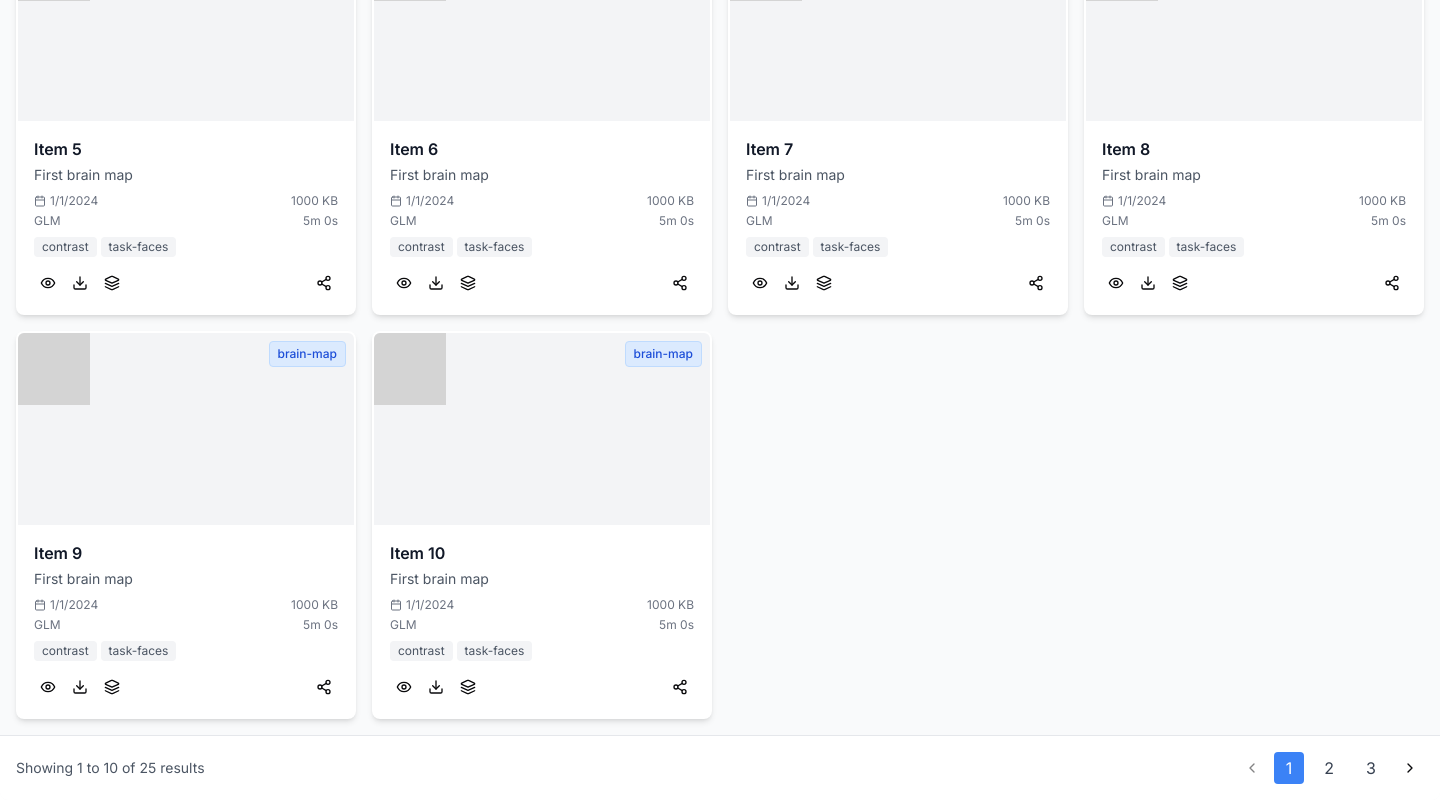
Test: ResultGallery › Pagination › navigates between pages
The width and height of the screenshot is (1440, 800).
(page scrolled)
Step 1. Click the button "2" → {"x": 1329, "y": 768}, box [1312,752,1346,784]
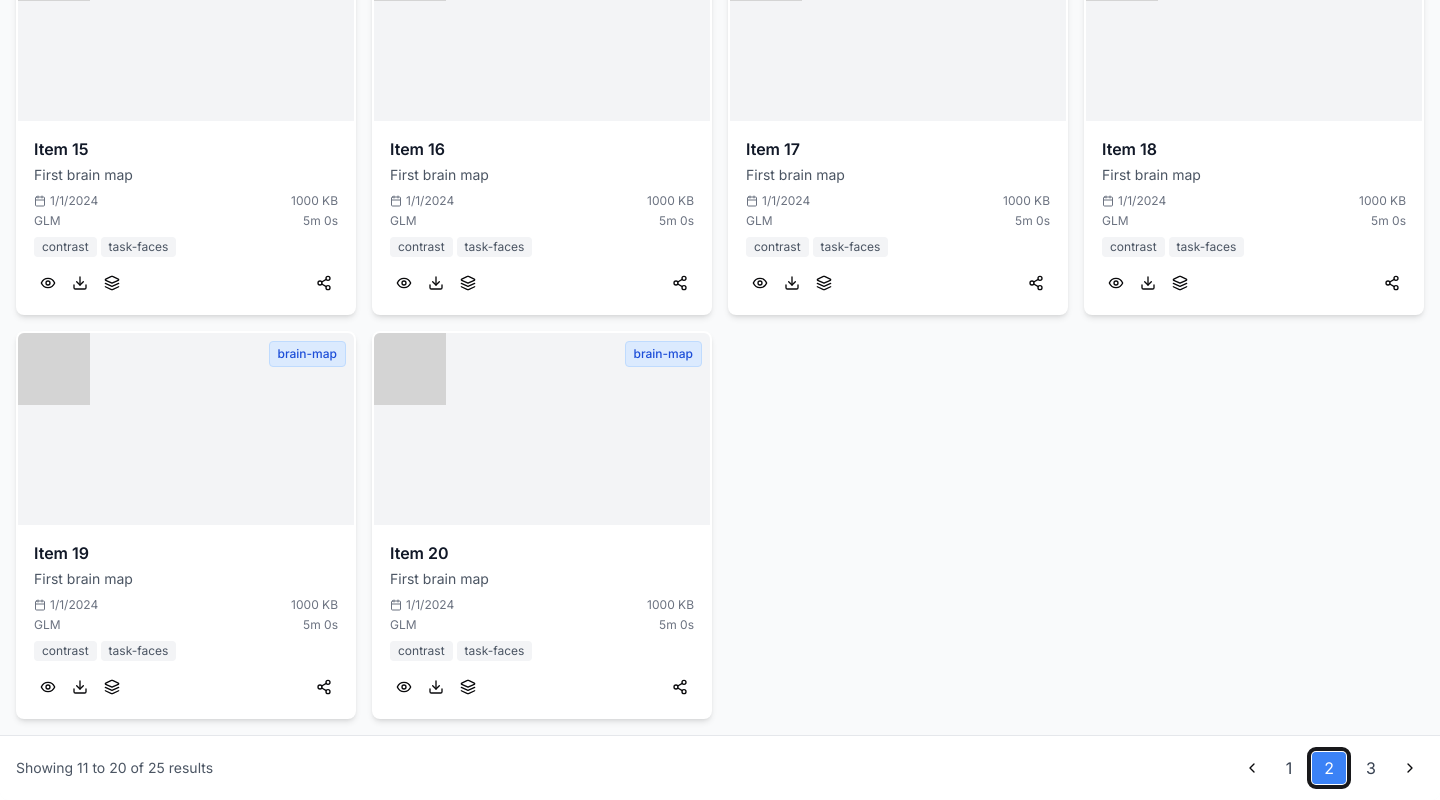
Check: the text "Showing 11 to 20 of 25 results" is shown, box [16,758,213,778]
